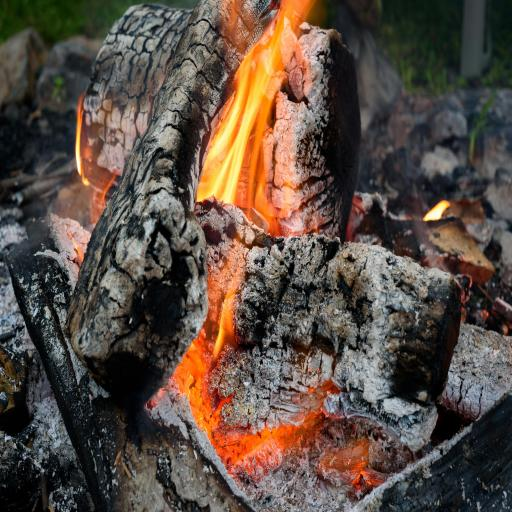campfire: (0, 9, 512, 508)
